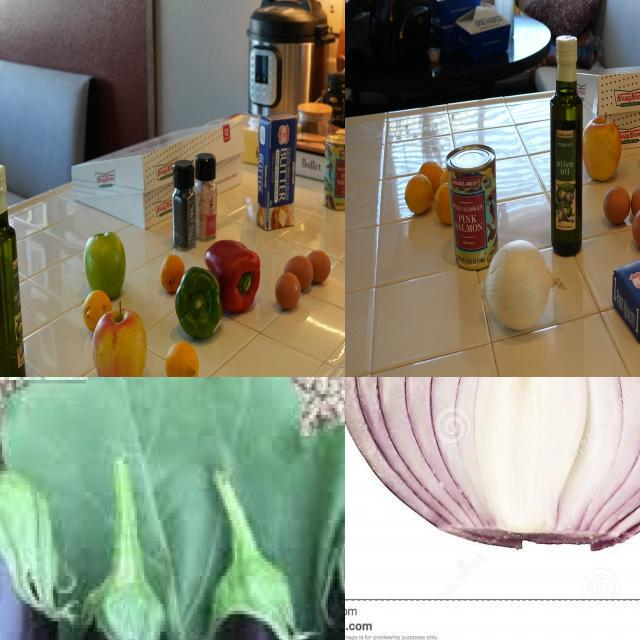bell_pepper: (207, 240, 263, 313), (178, 267, 222, 331), (173, 158, 201, 248)
egg: (285, 255, 314, 295), (604, 188, 630, 230), (307, 253, 331, 287), (277, 275, 299, 312), (632, 208, 640, 252)
eggplant: (198, 552, 312, 640), (58, 569, 189, 640)
onion: (346, 378, 640, 551), (483, 243, 566, 336)
